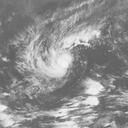cyclone: (22, 43, 74, 81)
